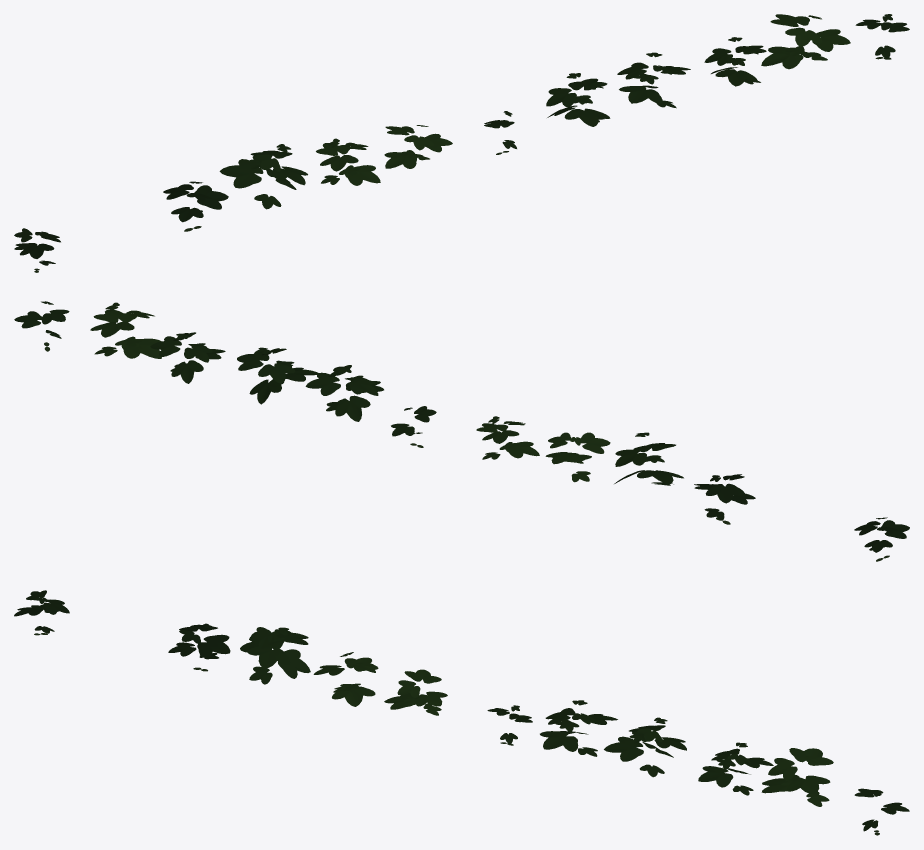
File: ROW_20_SEG5_foliage.dae
3 renders of one model, top to bottom at view 1: azimuth 30°, elevation 25°; view 2: azimuth 150°, elevation 25°; view 3: azimuth 330°, elevation 25°, orthographic.
Parts seen in each view (by area): view 1: ROW_20_SEG5_foliage; view 2: ROW_20_SEG5_foliage; view 3: ROW_20_SEG5_foliage.
Part boxes in pixels (<box>): ROW_20_SEG5_foliage: <box>14,14,909,272</box>; ROW_20_SEG5_foliage: <box>14,301,909,561</box>; ROW_20_SEG5_foliage: <box>14,590,909,835</box>.
Size of the model in its own units: 3.52 by 0.3203 by 0.2529.
